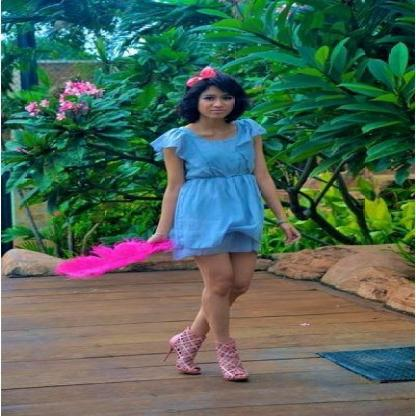bag: (54, 236, 173, 278)
dress: (150, 116, 270, 260)
shoe: (156, 326, 242, 374)
